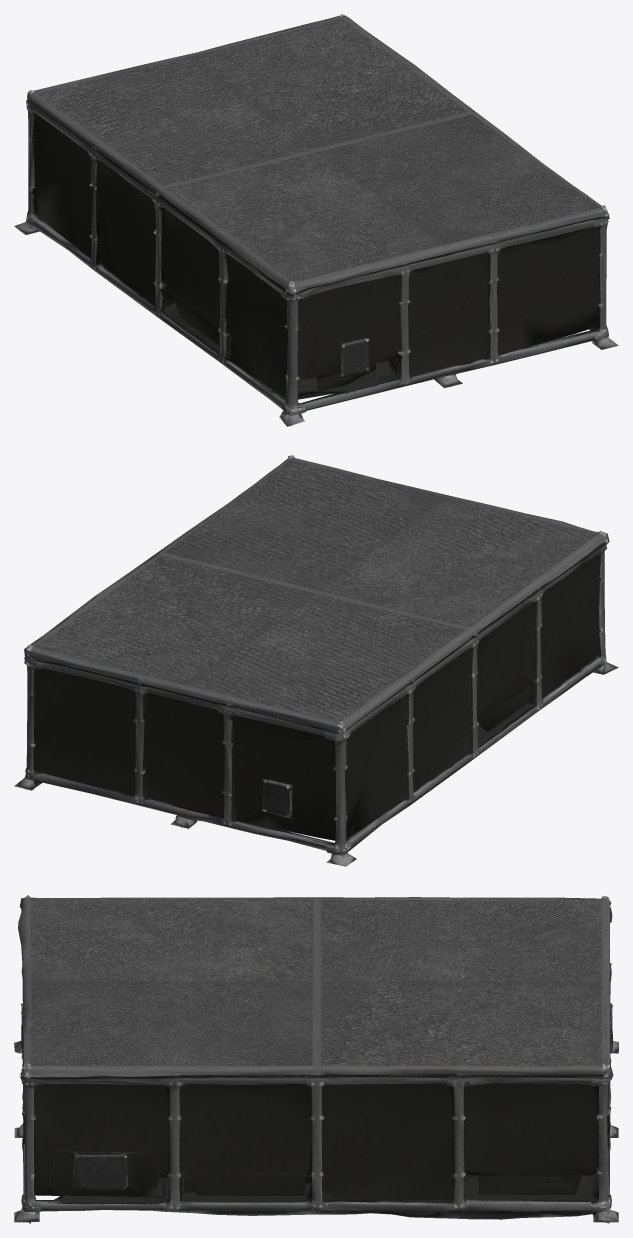
File: stage_deck_3d_model.fbx
3 views of the same model, one above another, from view 1: azimuth 30°, elevation 25°; view 2: azimuth 150°, elevation 25°; view 3: azimuth 270°, elevation 25° (orthographic). The views are drawn at different scales.
Visible parts, largest first — view 1: tripo_node_5f423d35; view 2: tripo_node_5f423d35; view 3: tripo_node_5f423d35.
Part boxes in pixels (box(x1,y1,x2,y2)): tripo_node_5f423d35: box(14, 14, 618, 426); tripo_node_5f423d35: box(14, 455, 618, 866); tripo_node_5f423d35: box(14, 895, 618, 1223).
Size of the model in its own units: 0.6879 by 0.2836 by 0.9795.
